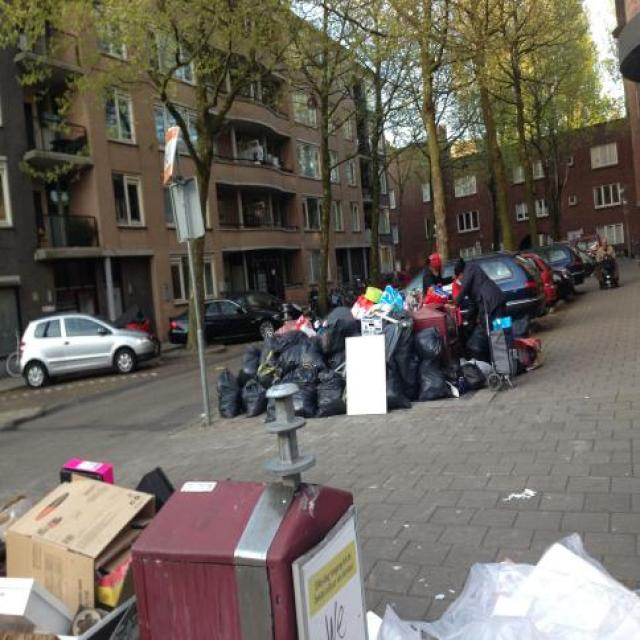Anorganik: (264, 328, 322, 405), (211, 353, 246, 418), (320, 294, 359, 349), (406, 357, 454, 399), (412, 324, 449, 356)
